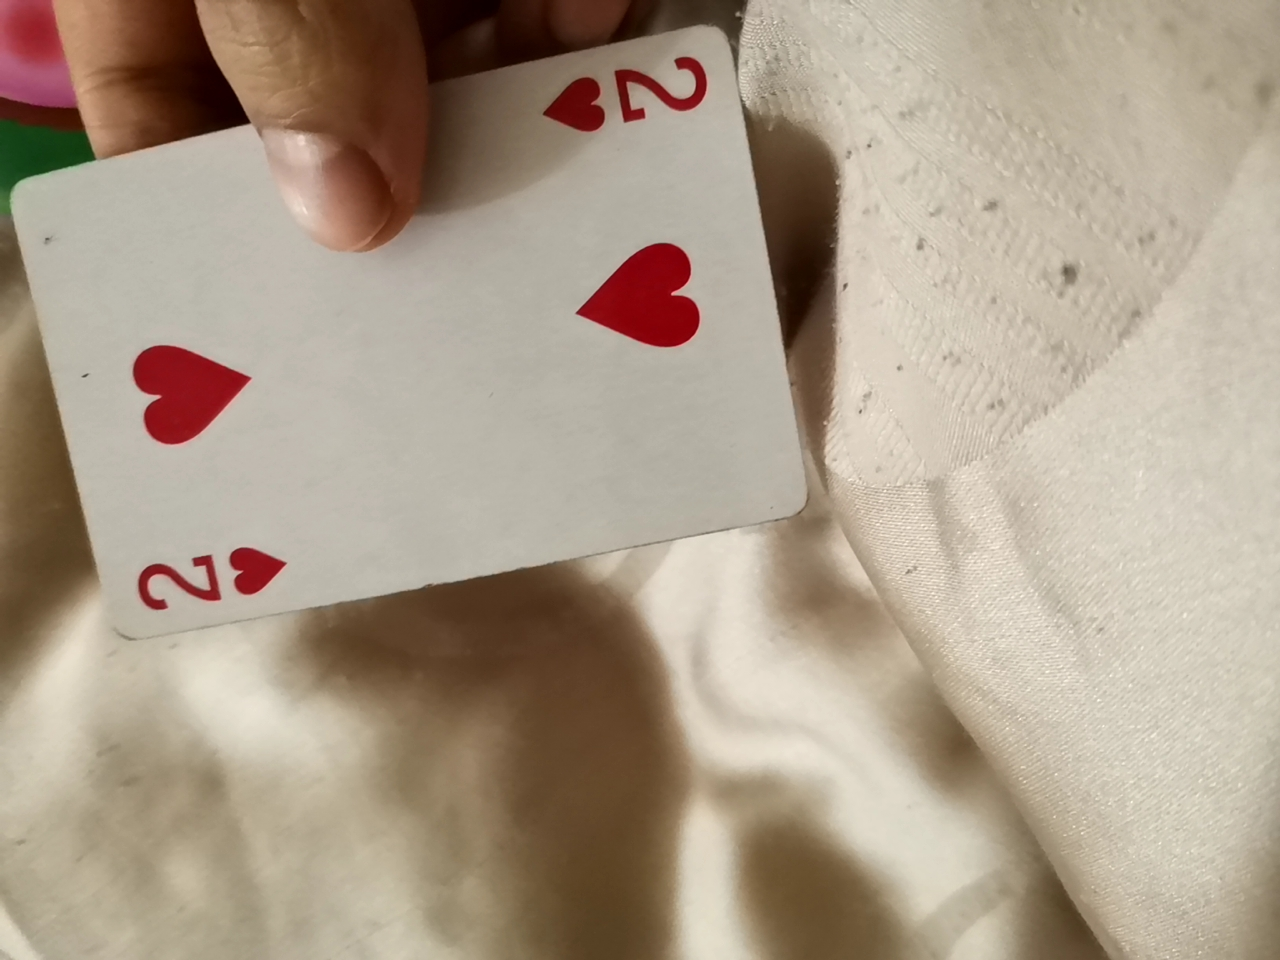hx 2: (25, 35, 809, 637)
